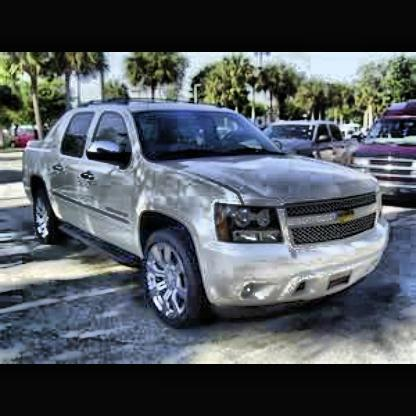Chevrolet Avalanche Crew Cab 2012: (26, 106, 390, 334)
